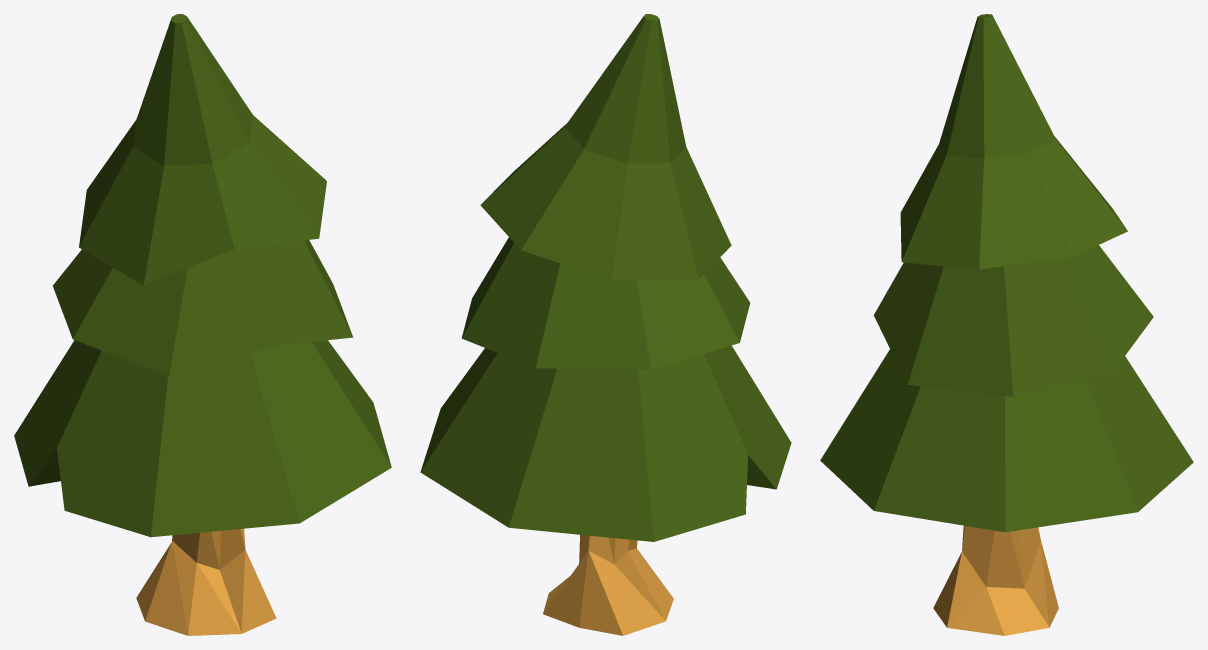
The model's file is object_landscape_tree_deciduous_teenager.glb.
The picture shows the model from 3 angles, left to right: view 1: azimuth 30°, elevation 25°; view 2: azimuth 150°, elevation 25°; view 3: azimuth 270°, elevation 25°; orthographic projection. The views are drawn at different scales.
Parts seen in each view (by area): view 1: object_landscape_tree_deciduous_teenager; view 2: object_landscape_tree_deciduous_teenager; view 3: object_landscape_tree_deciduous_teenager.
Part boxes in pixels (x1,y1,x2,y2): object_landscape_tree_deciduous_teenager: [14, 14, 391, 635]; object_landscape_tree_deciduous_teenager: [420, 14, 791, 635]; object_landscape_tree_deciduous_teenager: [820, 14, 1193, 635].
Bounding box in the file's own units: 0.3764 × 0.6633 × 0.3894.
